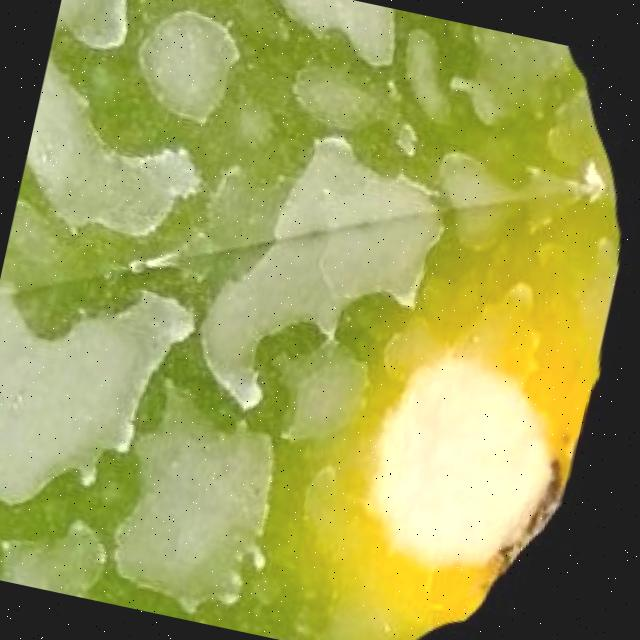mite: (236, 308, 383, 456), (124, 0, 252, 130), (0, 138, 93, 310), (282, 46, 402, 144), (71, 438, 155, 541), (330, 278, 420, 369)
